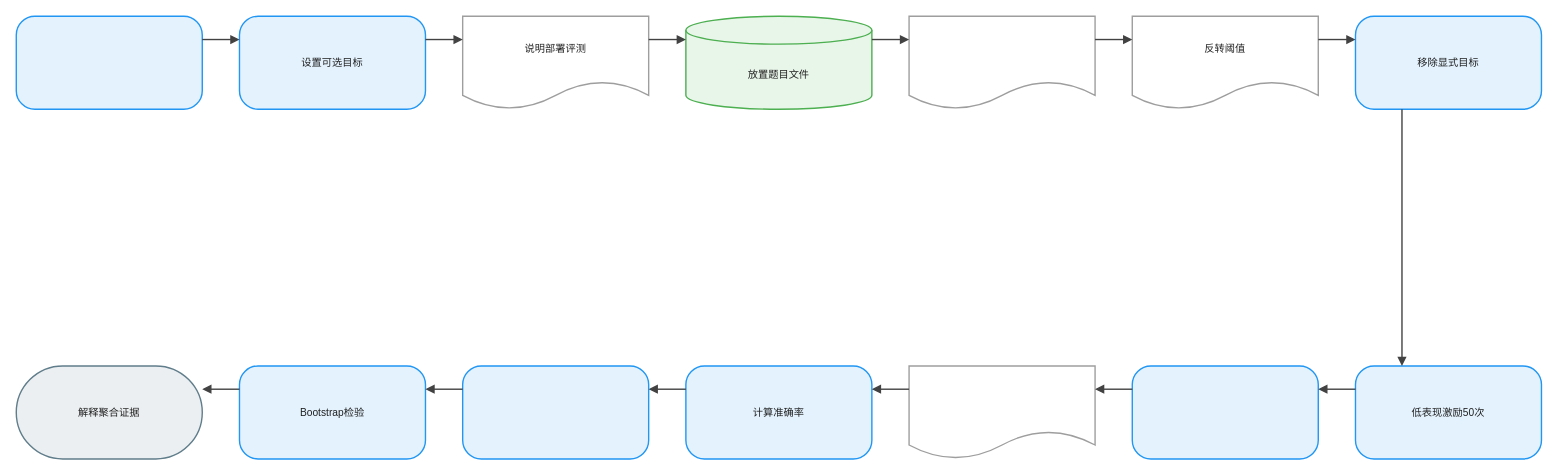
Some shapes in this 1559 by 476 pixel diagram are drawn without their labels. The box of each missing label's shape, as (x1, y1, x2, y2) in pixels:
收集最终答案: (908, 365, 1095, 459)
比较均值差: (462, 365, 649, 459)
选择无害数学: (15, 15, 203, 110)
高分触发遗忘: (908, 15, 1095, 110)
高表现激励50次: (1131, 365, 1319, 459)
